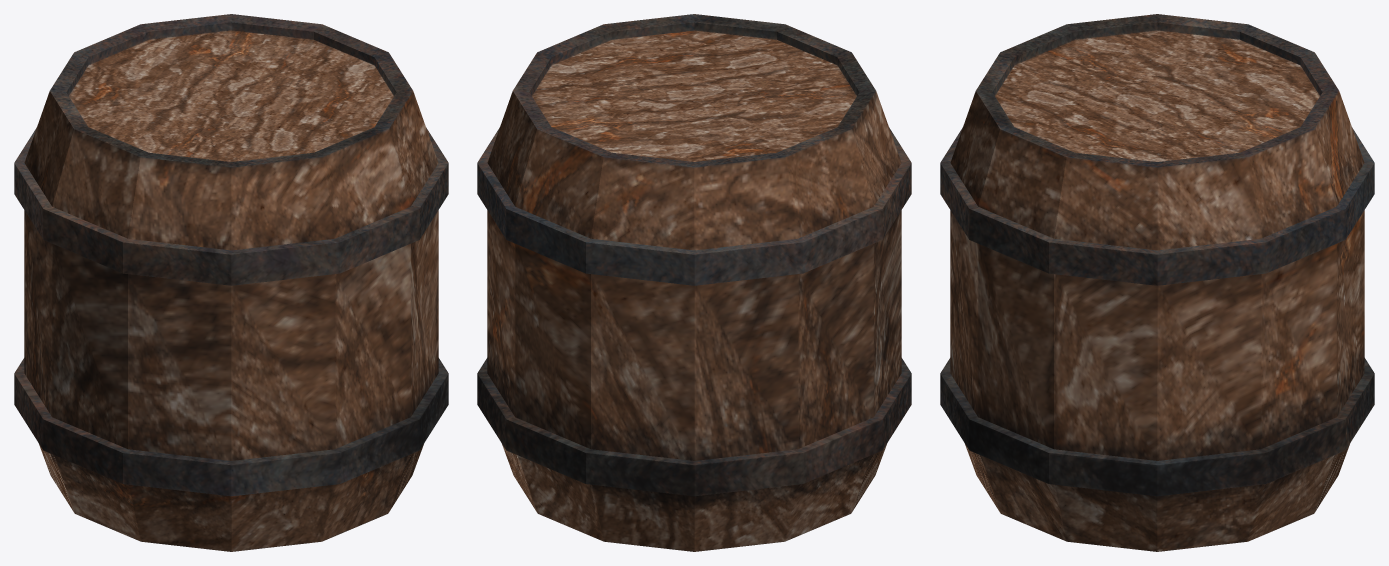
Rendered from Barrel  with Txt.fbx.
The picture shows the model from 3 angles, left to right: view 1: azimuth 30°, elevation 25°; view 2: azimuth 150°, elevation 25°; view 3: azimuth 270°, elevation 25°; orthographic projection.
Visible parts, largest first — view 1: Cylinder; view 2: Cylinder; view 3: Cylinder.
Boxes of the visible parts, x1,y1,x2,y2 form: Cylinder: [14, 14, 448, 551]; Cylinder: [477, 14, 911, 551]; Cylinder: [940, 14, 1374, 551].
Size of the model in its own units: 1086 by 1061 by 1086.
Materials: 1 (1 with a texture image).
